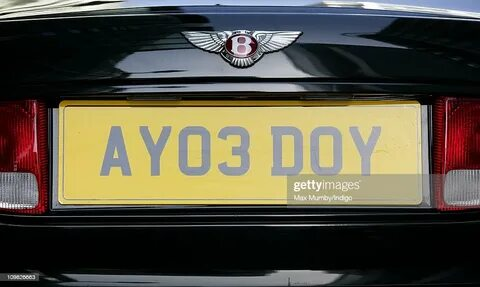number_plate: (60, 99, 422, 203)
